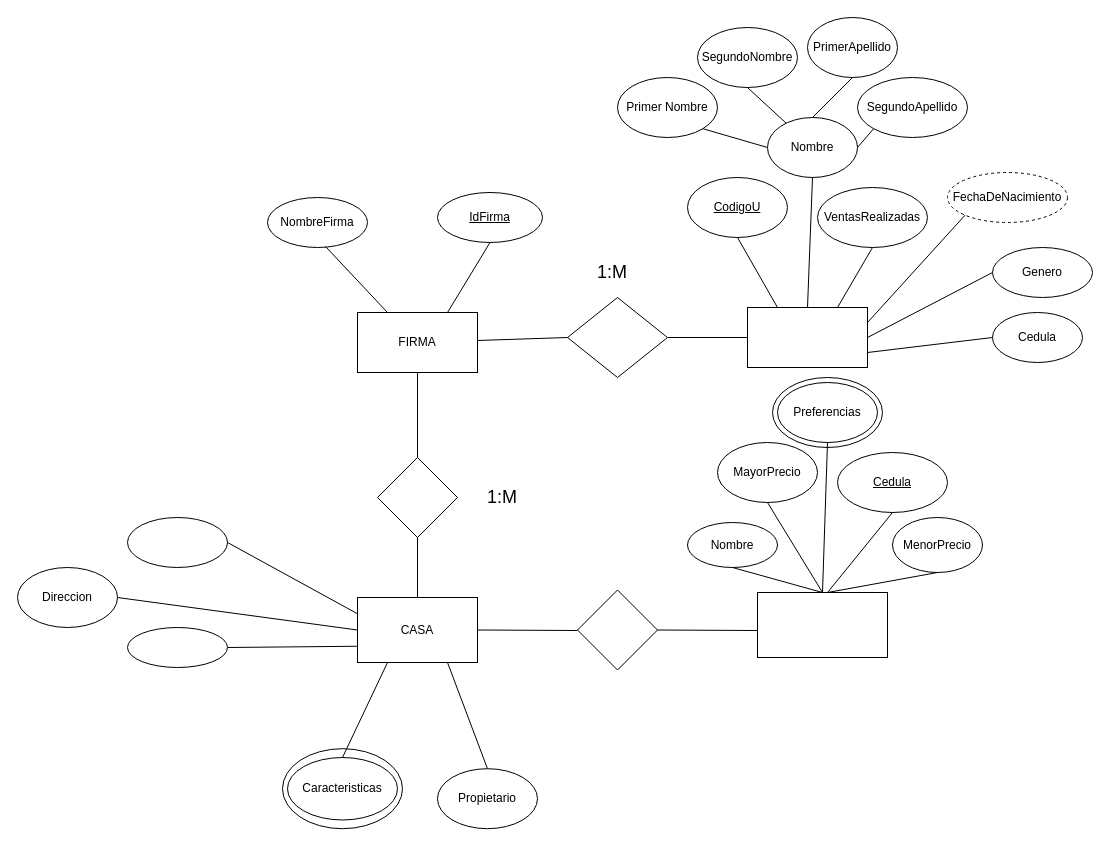
Image size: 1110x847. Some labels were removed from this diagram. The shapes that lost their labels are listed below. From the top down, each one's centre as x and y in pixels, then its label:
At [617,337]: "Contratar".
At [807,337]: "AGENTE".
At [417,497]: "Listar".
At [177,542]: "idCasa".
At [617,629]: "Comprar".
At [822,625]: "CLIENTE".
At [177,647]: "Precio".
